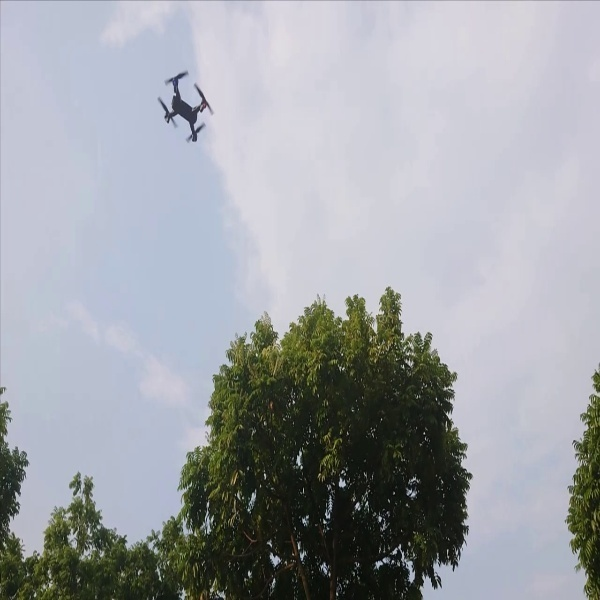drone: (147, 70, 221, 146)
